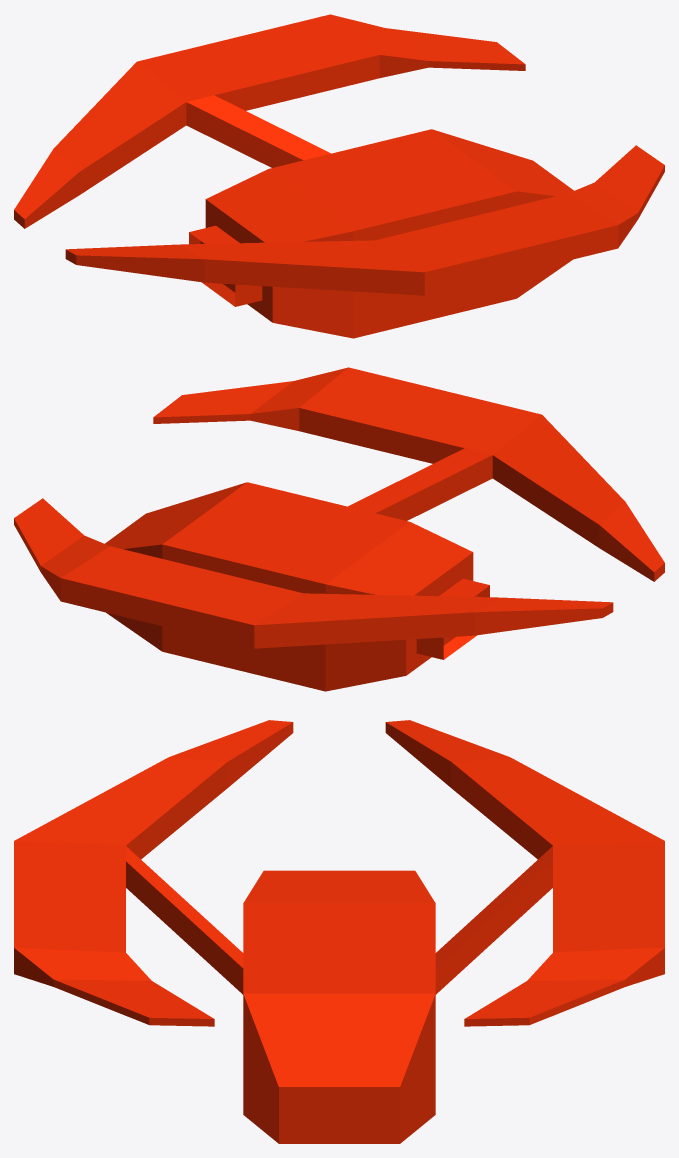
Rendered from test_ship.glb.
3 renders of one model, top to bottom at view 1: azimuth 30°, elevation 25°; view 2: azimuth 150°, elevation 25°; view 3: azimuth 270°, elevation 25°, orthographic. The views are drawn at different scales.
Parts seen in each view (by area): view 1: Plane; view 2: Plane; view 3: Plane.
Boxes of the visible parts, x1,y1,x2,y2 form: Plane: [14, 14, 664, 338]; Plane: [14, 367, 664, 691]; Plane: [14, 720, 664, 1143].
Bounding box in the file's own units: 7.27 × 1.92 × 6.76.
Materials: 1 (1 with a texture image).
